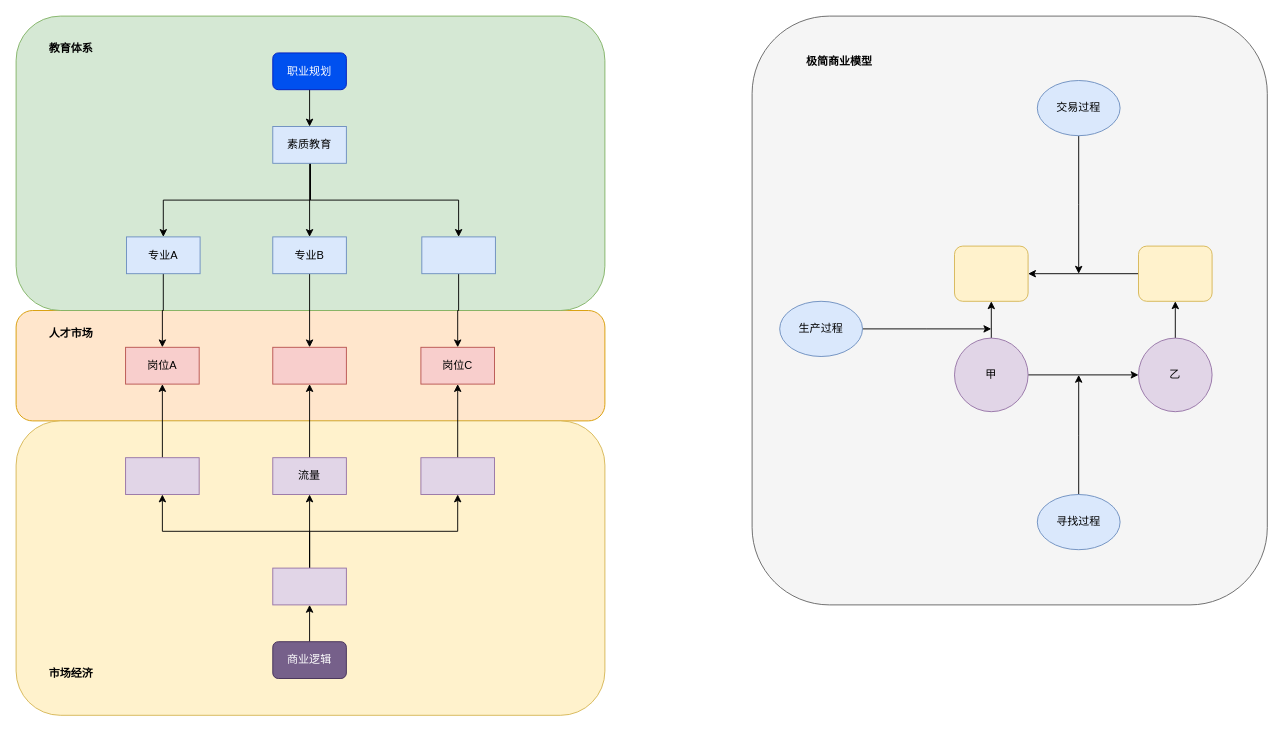
The diagram is 1283 pixels wide and 731 high, and some of its shapes have lost their labels. The shapes that lost their labels are listed below. From the top down, each one's centre as x and y in pixels, then its label:
At [458,255]: "专业C".
At [991,273]: "物品/服务".
At [1175,273]: "一般等价物".
At [309,365]: "岗位B".
At [162,475]: "产品".
At [457,475]: "销售".
At [309,586]: "需求/定位".
